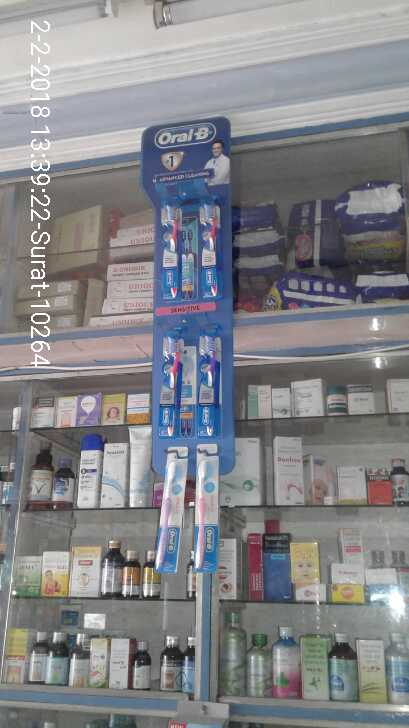oralb: (147, 445, 189, 578), (188, 446, 215, 583), (197, 193, 229, 308), (149, 200, 181, 310), (193, 331, 227, 434), (157, 336, 187, 439)
